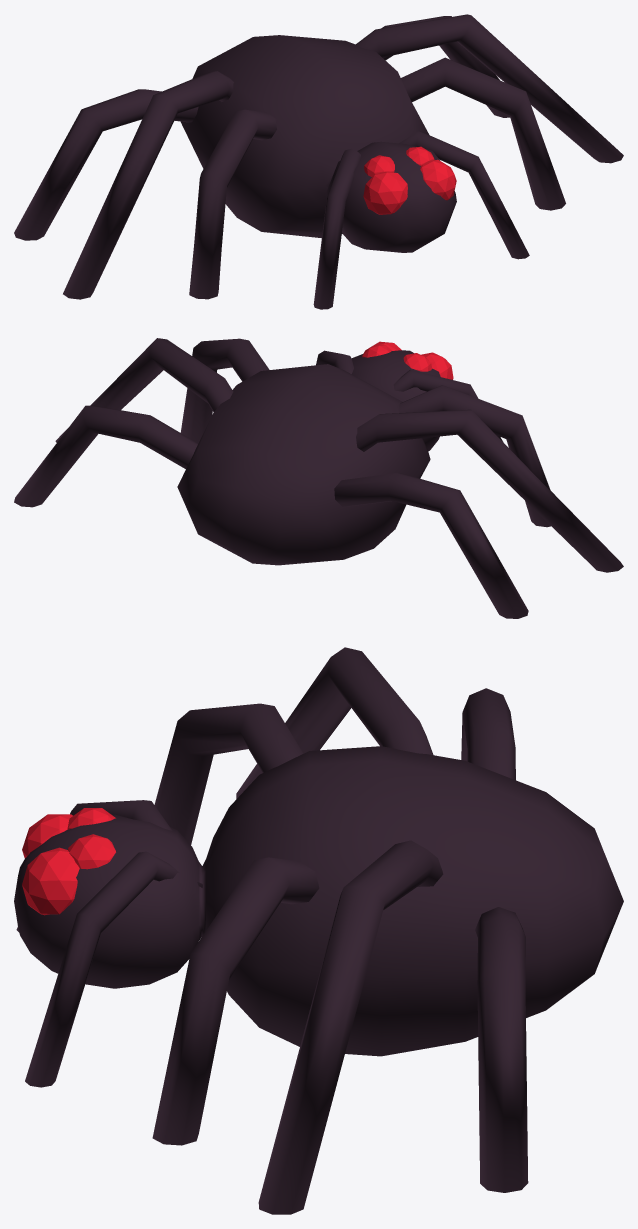
Rendered from aranita.glb.
The picture shows the model from 3 angles, top to bottom: view 1: azimuth 30°, elevation 25°; view 2: azimuth 150°, elevation 25°; view 3: azimuth 270°, elevation 25°; orthographic projection. The views are drawn at different scales.
Visible parts, largest first — view 1: cuerpo; view 2: cuerpo; view 3: cuerpo.
Boxes of the visible parts, x1,y1,x2,y2 form: cuerpo: (14, 14, 623, 309); cuerpo: (14, 338, 623, 618); cuerpo: (14, 647, 623, 1214).
Size of the model in its own units: 1.22 by 0.3753 by 0.7367.
